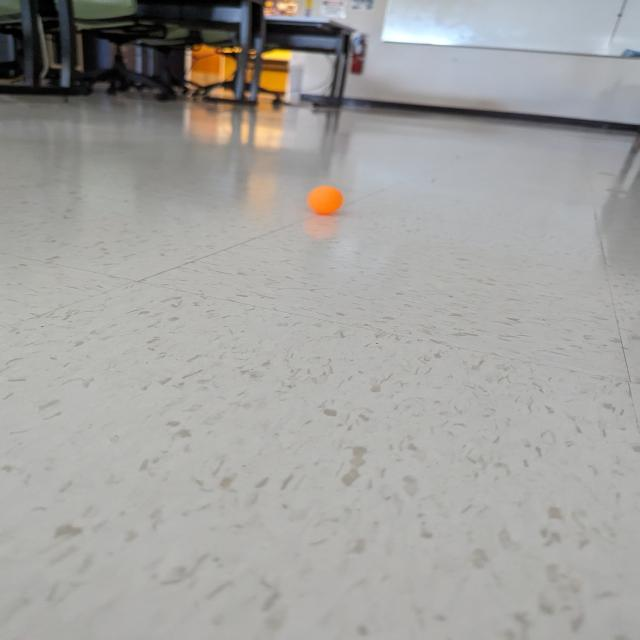ping-pong-ball: (306, 182, 347, 216)
